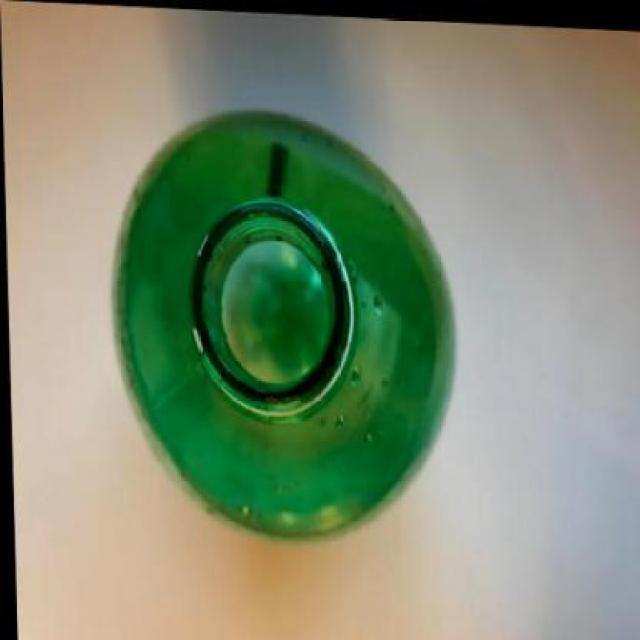Plastic: (105, 90, 472, 547)
